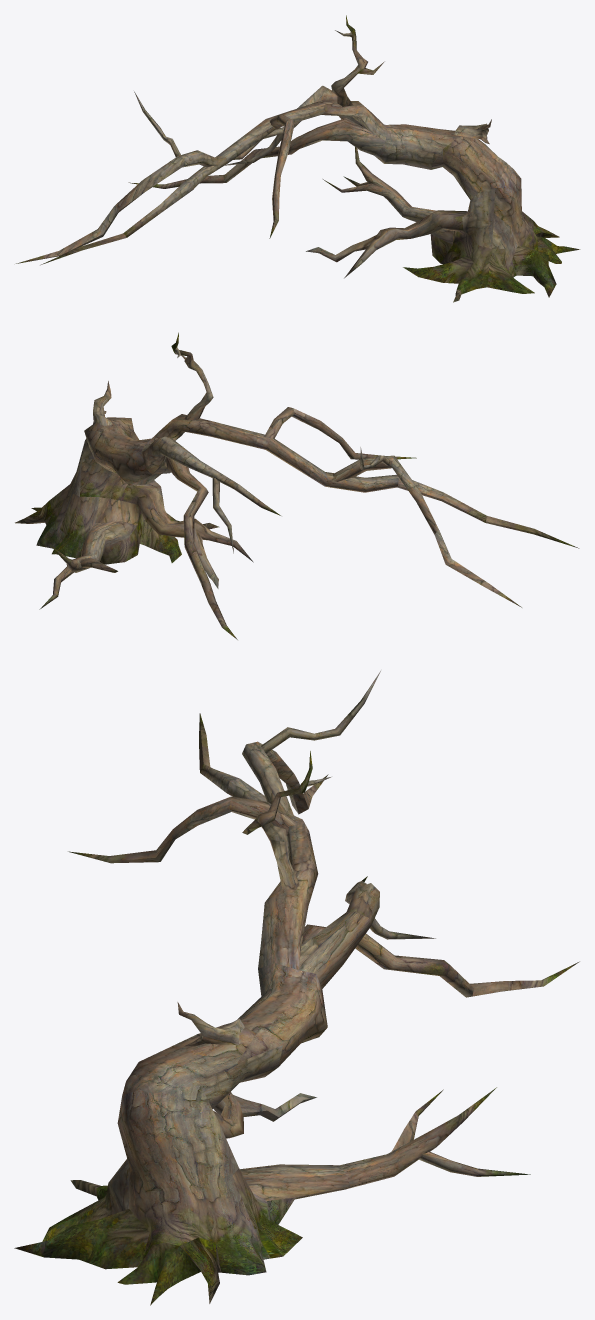
Rendered from shi_gan_10.FBX.
3 renders of one model, top to bottom at view 1: azimuth 30°, elevation 25°; view 2: azimuth 150°, elevation 25°; view 3: azimuth 270°, elevation 25°, orthographic. The views are drawn at different scales.
Visible parts, largest first — view 1: shi_gan_11; view 2: shi_gan_11; view 3: shi_gan_11.
Part boxes in pixels (x1=…): shi_gan_11: x1=16, y1=15, x2=580, y2=302; shi_gan_11: x1=15, y1=332, x2=579, y2=639; shi_gan_11: x1=14, y1=671, x2=579, y2=1305.
Size of the model in its own units: 96.35 by 42.95 by 54.17.
